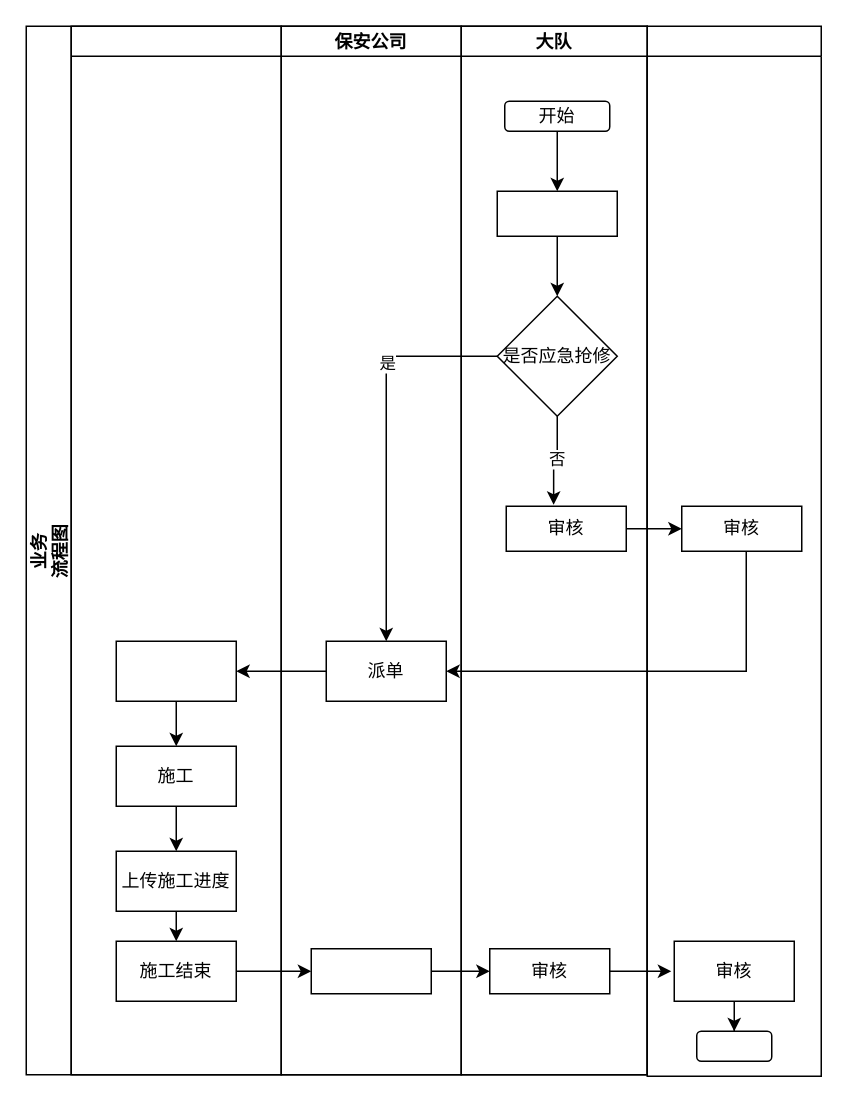
Image size: 848x1103. Some labels were removed from this diagram. Here are the shapes that lost their labels. From the top down, the box of each, then its label:
(496, 190, 617, 236): 发起报修单
(70, 25, 281, 1075): 施工单位
(646, 25, 821, 1076): 支队
(115, 640, 236, 701): 接单、指派负责人
(310, 947, 431, 994): 监理审批工程工作量和质量
(695, 1030, 772, 1061): 结束
